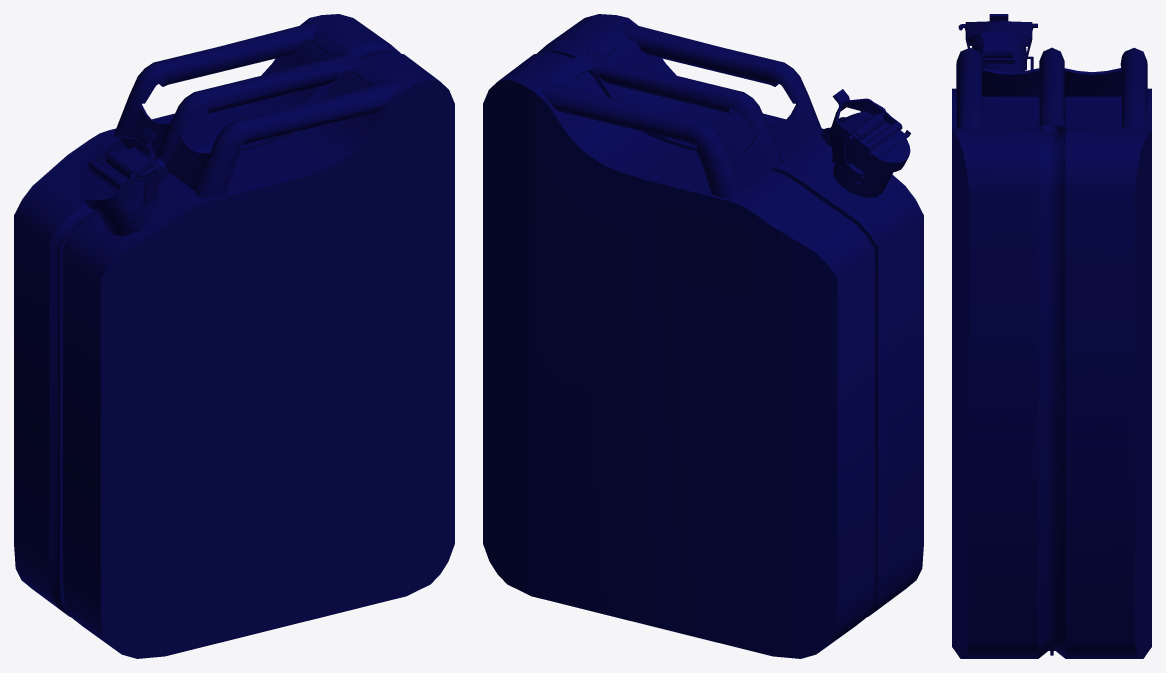
Rendered from SM_Canister.fbx.
3 views of the same model, side by side, from view 1: azimuth 30°, elevation 25°; view 2: azimuth 150°, elevation 25°; view 3: azimuth 270°, elevation 25° (orthographic). The views are drawn at different scales.
Parts seen in each view (by area): view 1: Canister; view 2: Canister; view 3: Canister.
Boxes of the visible parts, box(x1,y1,x2,y2) form: Canister: box(14, 14, 454, 658); Canister: box(483, 14, 923, 658); Canister: box(952, 14, 1151, 658).
Bounding box in the file's own units: 34.48 × 46.75 × 16.26.
